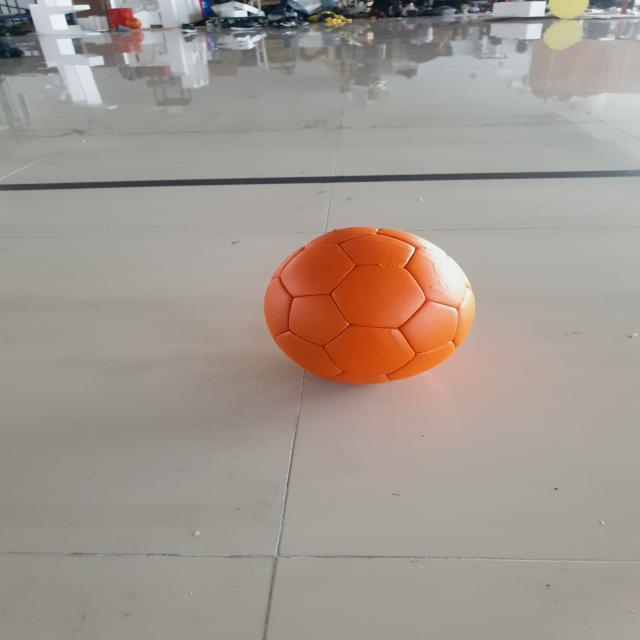bola: (254, 214, 486, 390)
